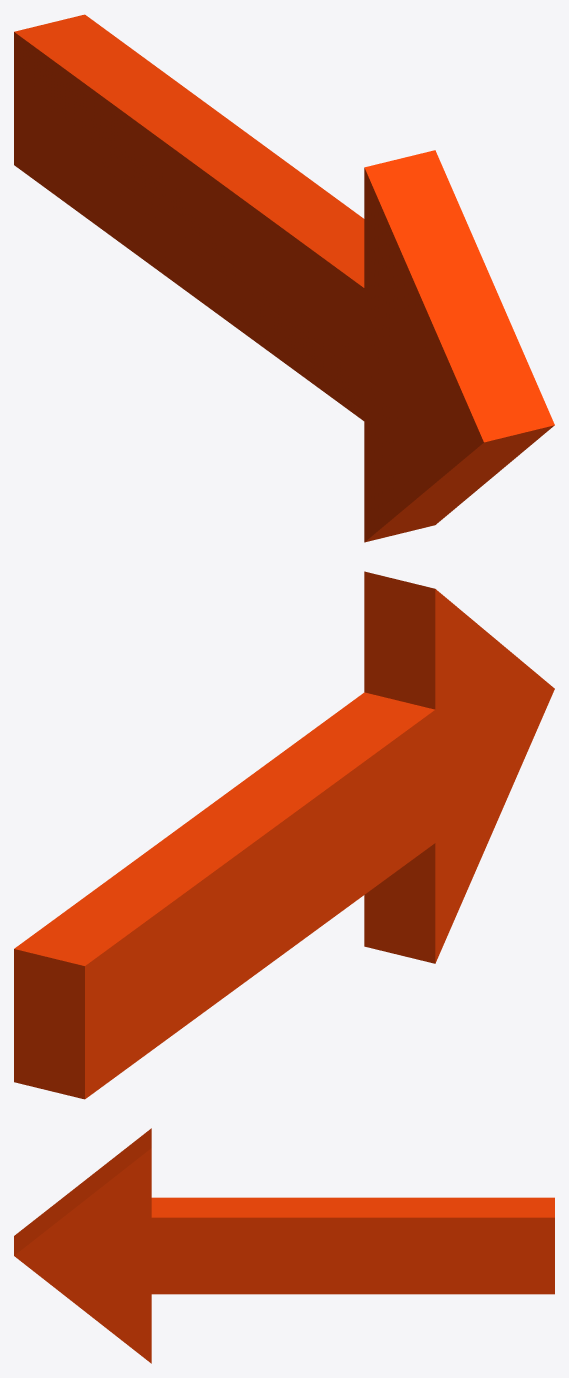
3 renders of one model, top to bottom at view 1: azimuth 30°, elevation 25°; view 2: azimuth 150°, elevation 25°; view 3: azimuth 270°, elevation 25°, orthographic. The views are drawn at different scales.
Visible parts, largest first — view 1: SketchUp; view 2: SketchUp; view 3: SketchUp.
Boxes of the visible parts, x1=… form: SketchUp: x1=14, y1=14, x2=554, y2=542; SketchUp: x1=14, y1=571, x2=554, y2=1099; SketchUp: x1=14, y1=1128, x2=554, y2=1363.
Bounding box in the file's own units: 1.42 × 16.26 × 7.16.
